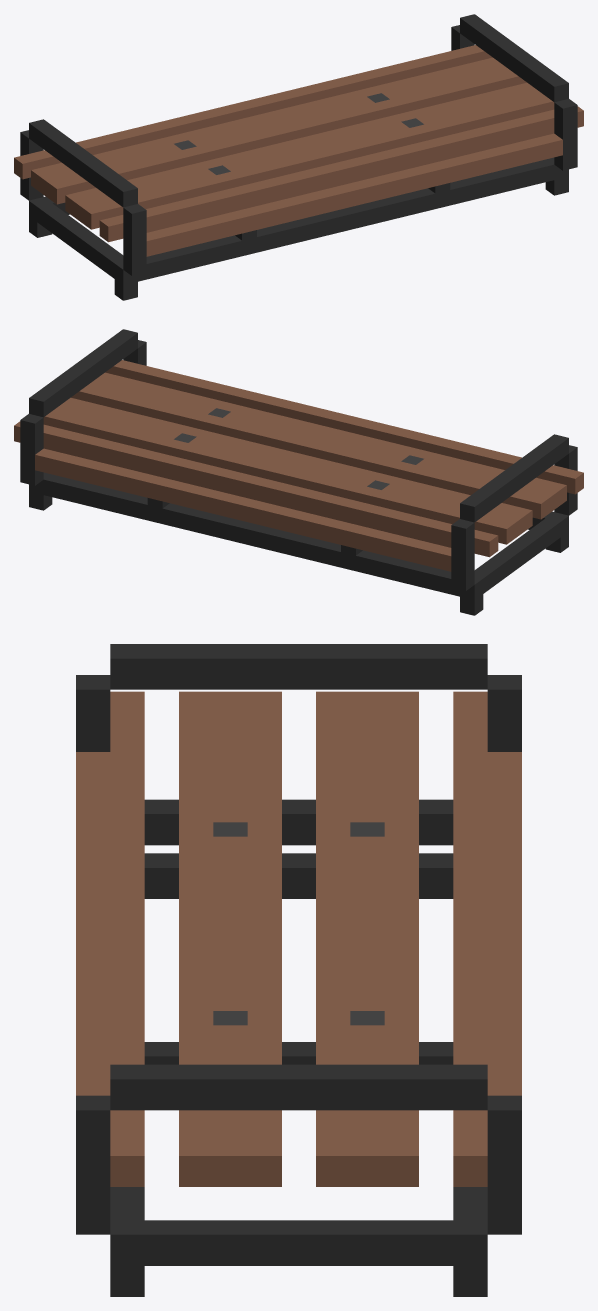
The model's file is Park_Set-3.obj.
3 renders of one model, top to bottom at view 1: azimuth 30°, elevation 25°; view 2: azimuth 150°, elevation 25°; view 3: azimuth 270°, elevation 25°, orthographic. The views are drawn at different scales.
Bounding box in the file's own units: 3.2 × 0.7 × 1.3.
Materials: 1 (1 with a texture image).
